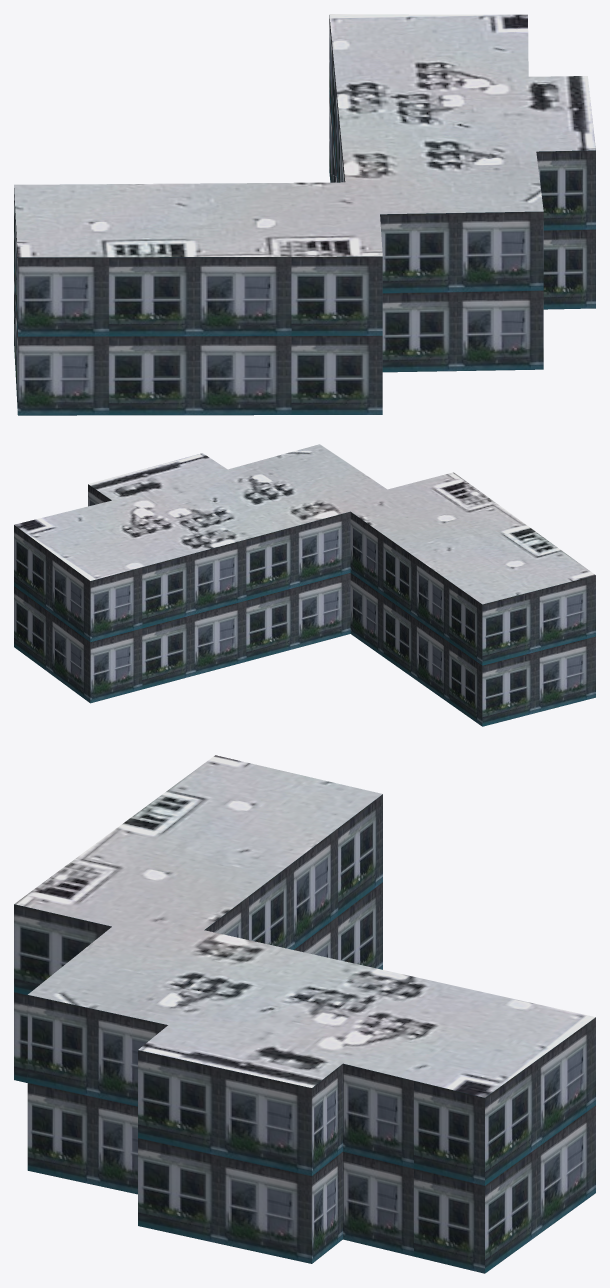
File: ResTex__357.fbx
3 renders of one model, top to bottom at view 1: azimuth 30°, elevation 25°; view 2: azimuth 150°, elevation 25°; view 3: azimuth 270°, elevation 25°, orthographic. The views are drawn at different scales.
Parts seen in each view (by area): view 1: CityEngineMaterial_11_m, CityEngineMaterial_4_m; view 2: CityEngineMaterial_11_m, CityEngineMaterial_4_m; view 3: CityEngineMaterial_11_m, CityEngineMaterial_4_m.
Part boxes in pixels (left/top/right/bottom): CityEngineMaterial_11_m: left=14, top=15, right=595, bottom=415; CityEngineMaterial_4_m: left=14, top=14, right=595, bottom=257; CityEngineMaterial_11_m: left=14, top=484, right=595, bottom=726; CityEngineMaterial_4_m: left=14, top=444, right=595, bottom=604; CityEngineMaterial_11_m: left=14, top=794, right=595, bottom=1273; CityEngineMaterial_4_m: left=14, top=755, right=595, bottom=1097.
Size of the model in its own units: 25.06 by 6 by 17.99.
Materials: 2 (2 with a texture image).
